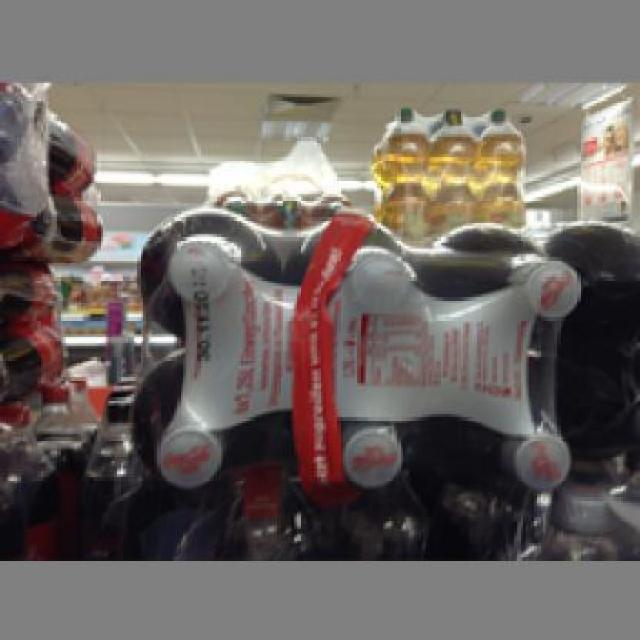Coke: (131, 203, 580, 494)
